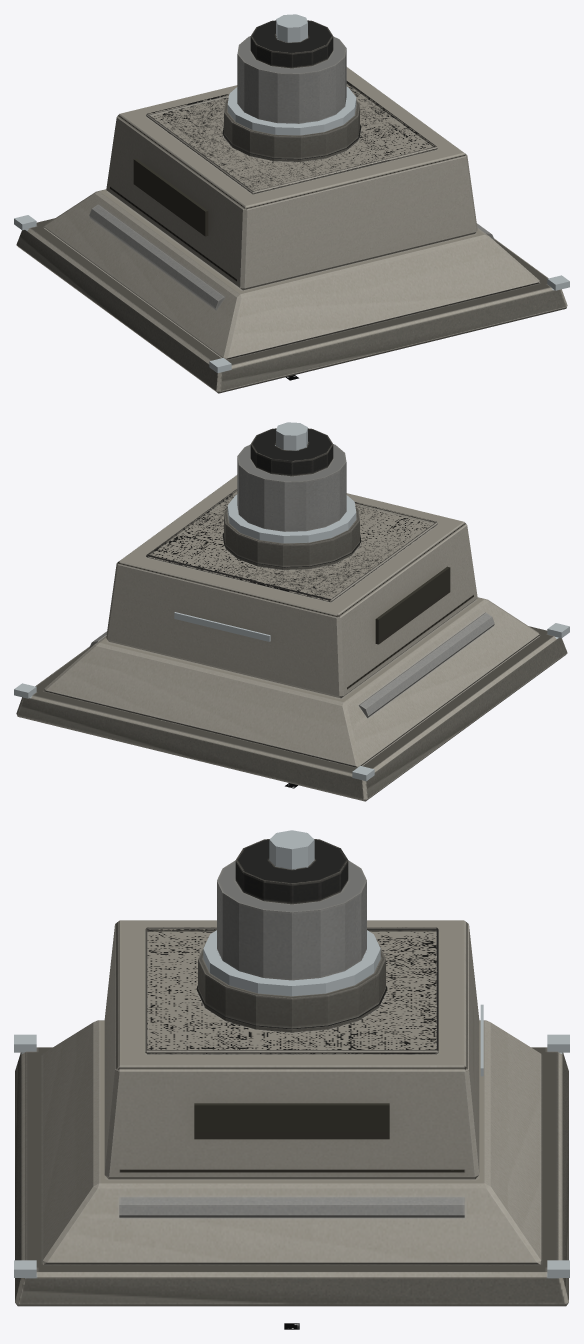
File: ord_extractor.fbx
3 renders of one model, top to bottom at view 1: azimuth 30°, elevation 25°; view 2: azimuth 150°, elevation 25°; view 3: azimuth 270°, elevation 25°, orthographic. The views are drawn at different scales.
Parts seen in each view (by area): view 1: base_bar; view 2: base_bar; view 3: base_bar.
Boxes of the visible parts, x1,y1,x2,y2 form: base_bar: (14, 14, 569, 393); base_bar: (14, 422, 569, 801); base_bar: (14, 830, 569, 1306).
Bounding box in the file's own units: 740 × 715 × 740.
2 materials, 2 textured.
